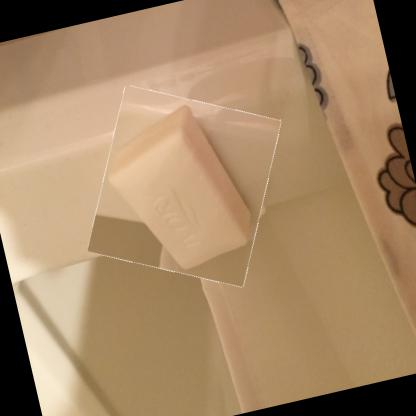soap: (70, 69, 298, 303)
